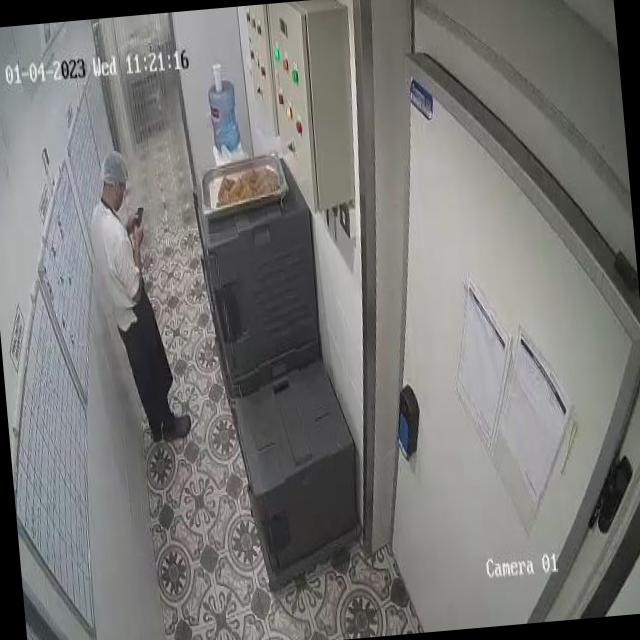hairnet: (100, 150, 129, 184)
